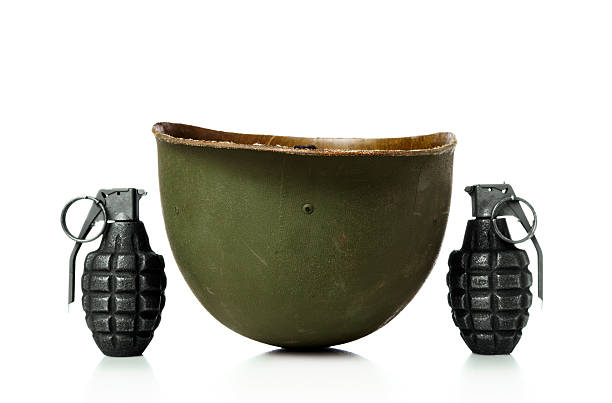e1: (58, 183, 170, 361), (444, 180, 549, 357)
